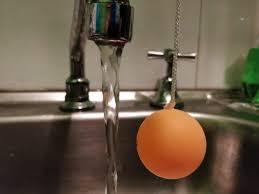oball: (136, 109, 208, 179)
